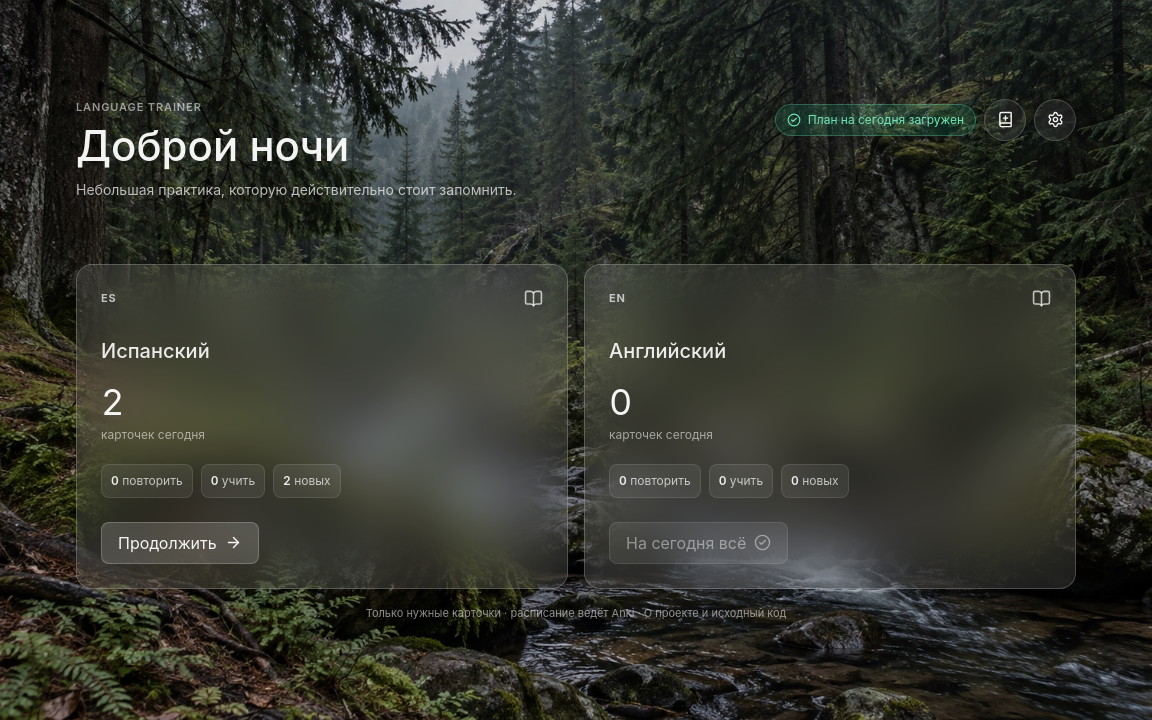
Language Trainer › ends at the planned total even when Anki can return another learning card
Step 1. Click the button "Продолжить" → [180, 543], box [101, 522, 259, 564]
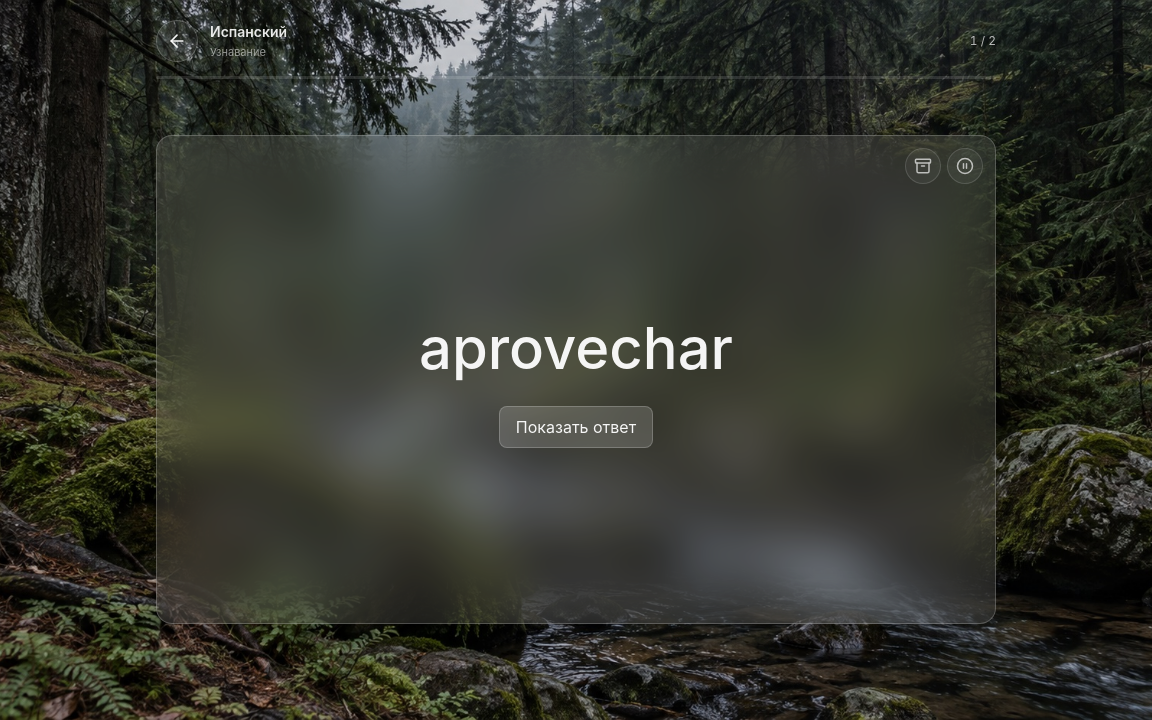
Step 2. Click the button "Показать ответ" → [576, 427], box [499, 406, 653, 448]
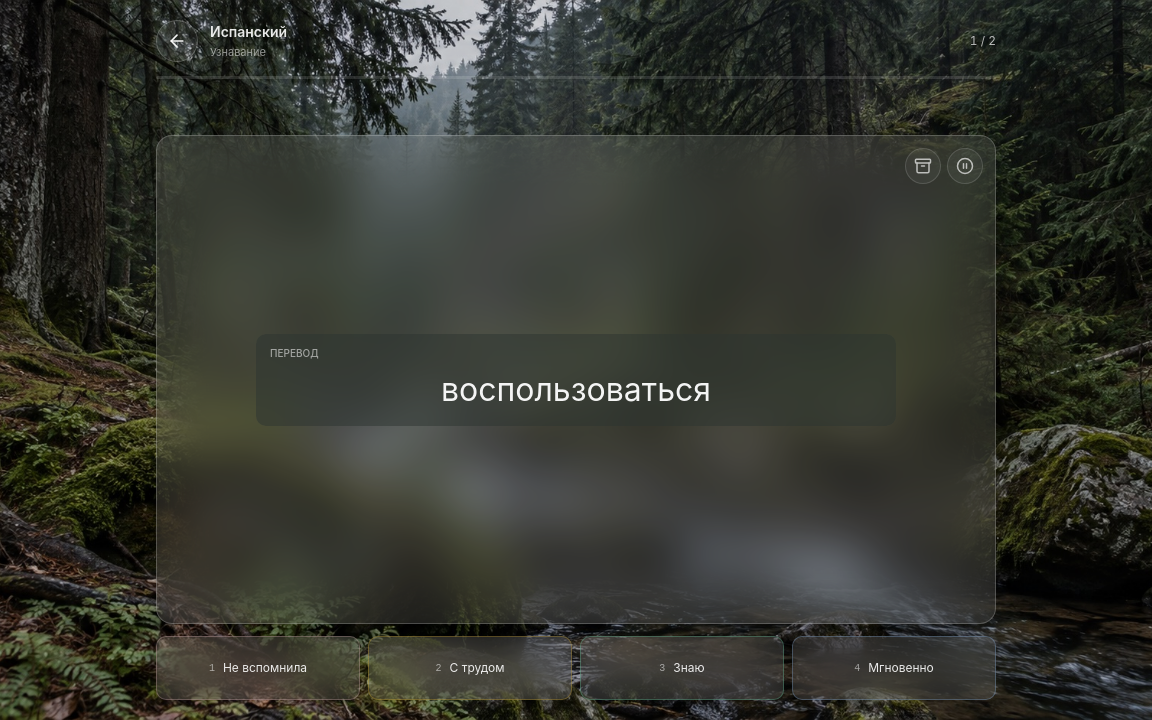
Step 3. Click the button "1 Не вспомнила" → [258, 668], box [156, 636, 360, 700]
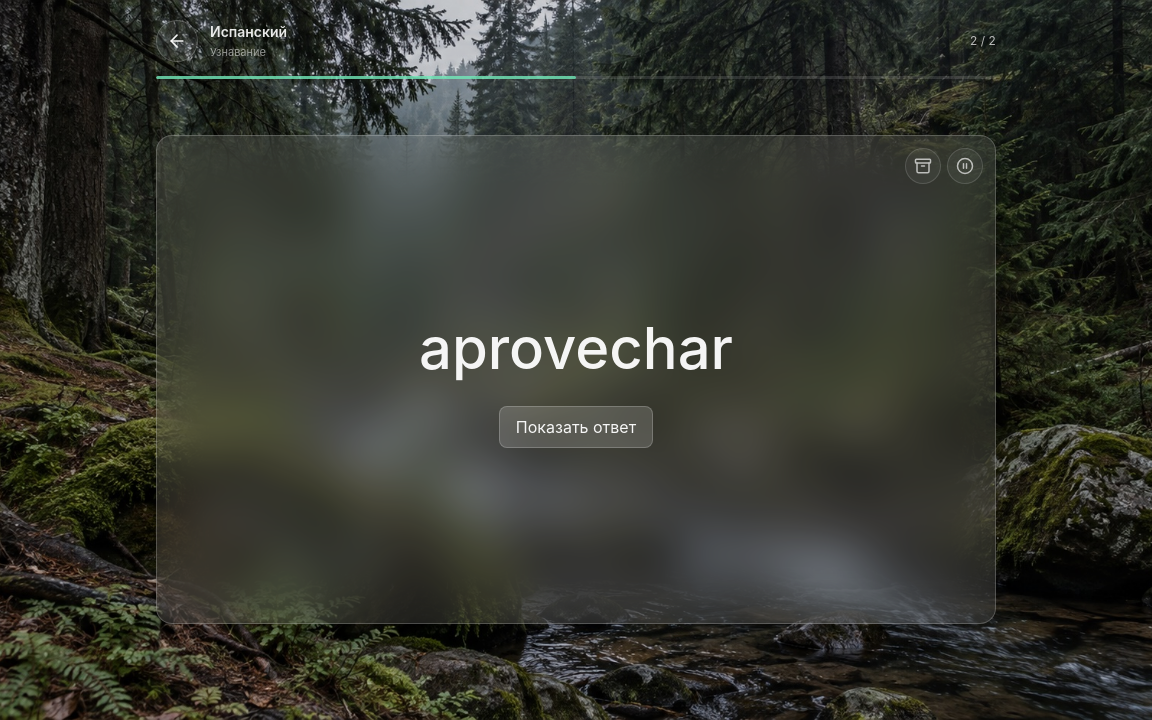
Expected: the text named "Карточка 2 из 2" reads "2 / 2", [970, 32, 996, 50]
Step 4. Click the button "Показать ответ" → [576, 427], box [499, 406, 653, 448]
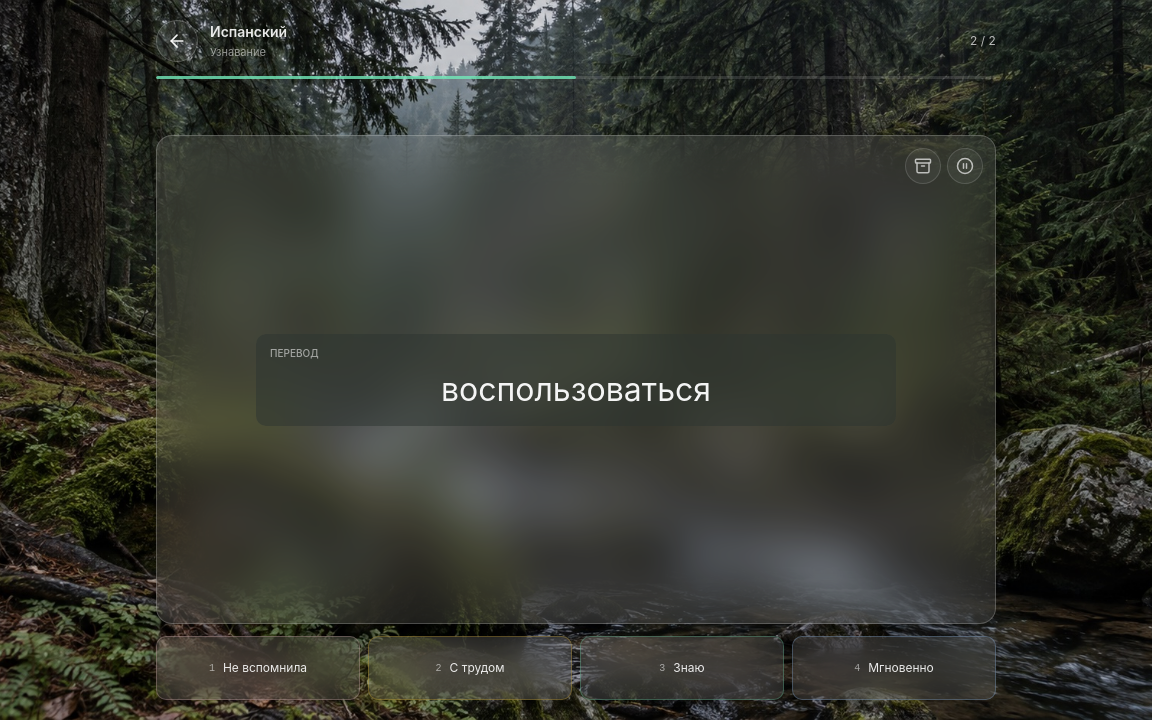
Step 5. Click the button "1 Не вспомнила" → [258, 668], box [156, 636, 360, 700]
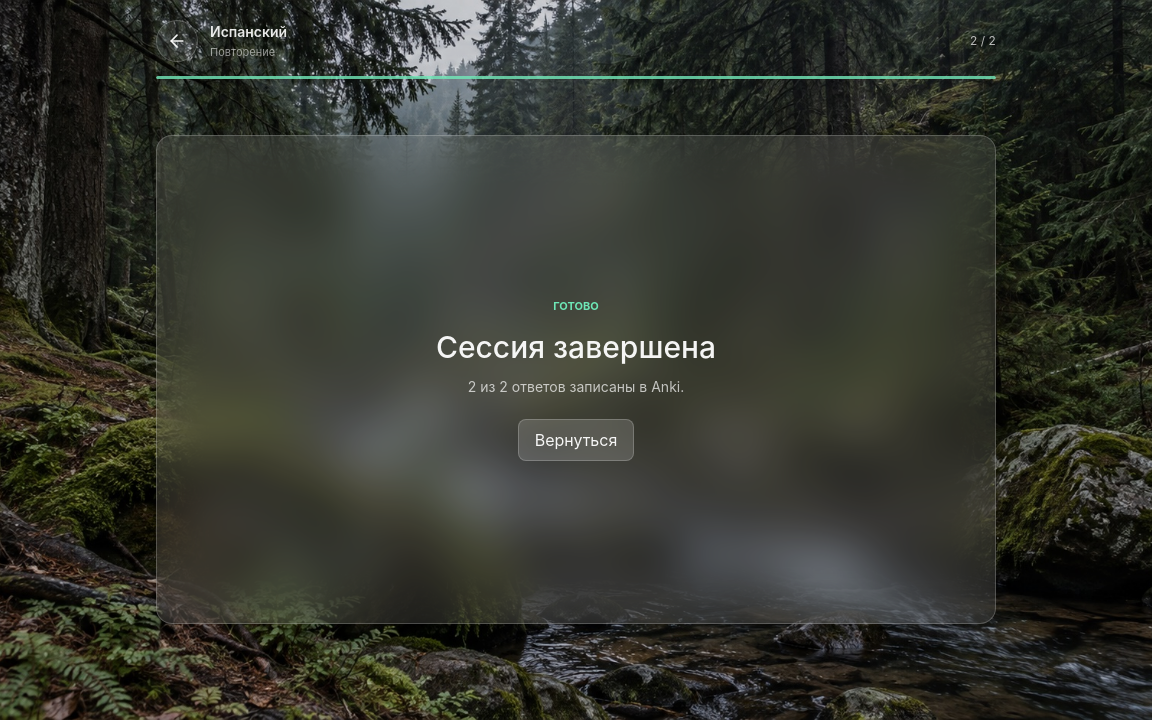
Expected: the heading "Сессия завершена" is shown, [436, 325, 716, 370]
Expected: the text "2 из 2 ответов записаны в Anki." is shown, [468, 376, 684, 397]
